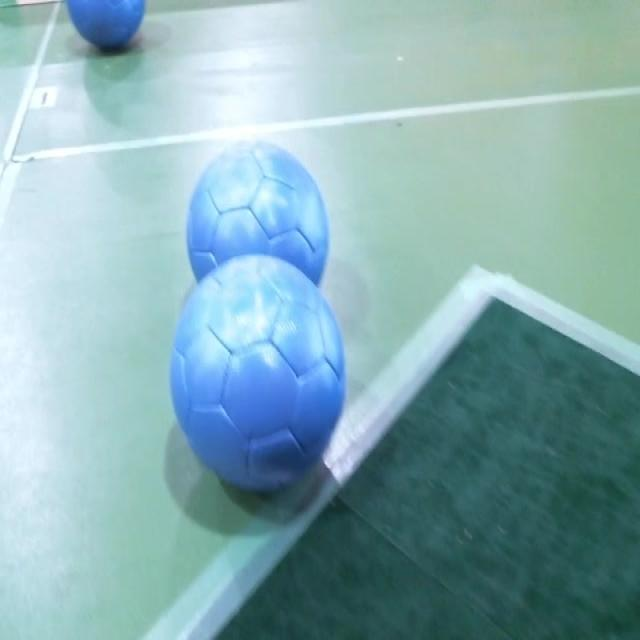blue_ball: (168, 253, 346, 498), (188, 138, 330, 286), (68, 0, 148, 49)
